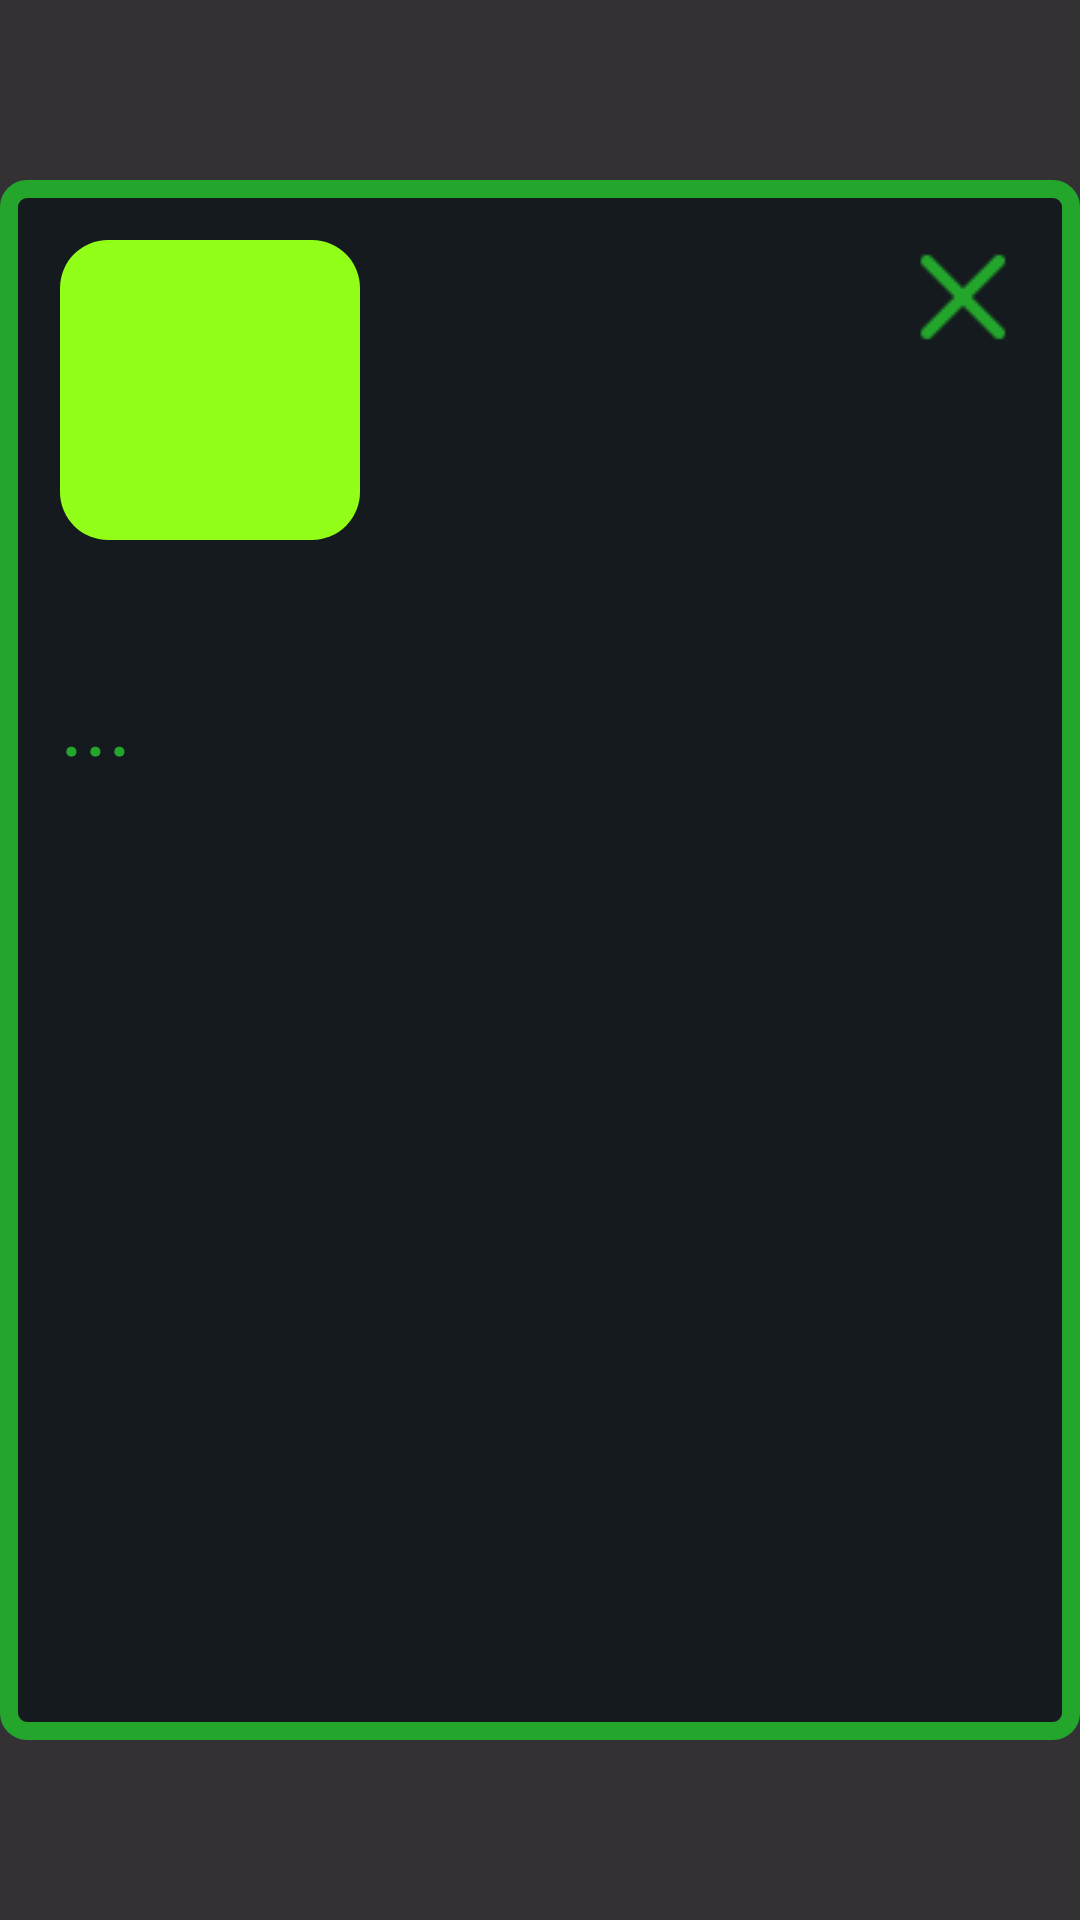

Where to tap for icons on this 1080×1920 app screen, as [x,y]:
exit: [963,297]
